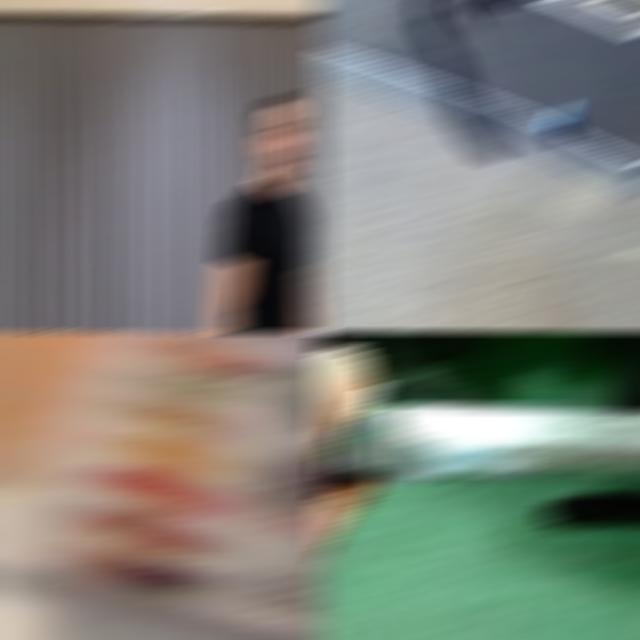Knife: (314, 386, 640, 488)
Knife_Handle: (79, 334, 326, 565)
